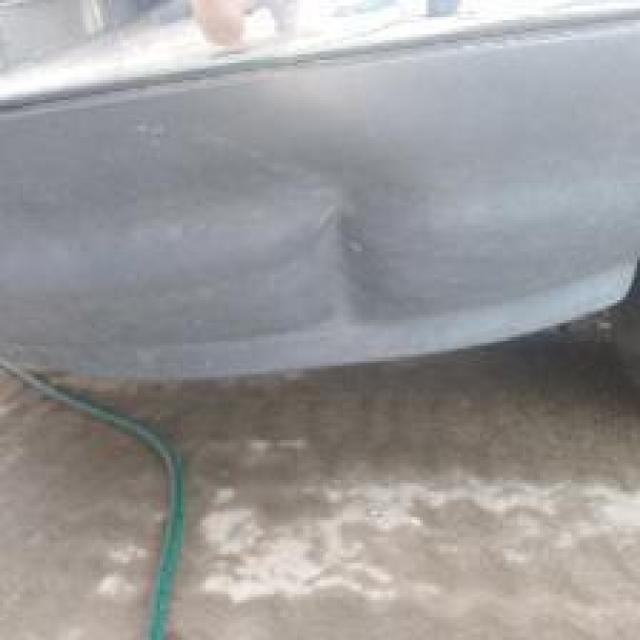damaged: (280, 146, 443, 403)
